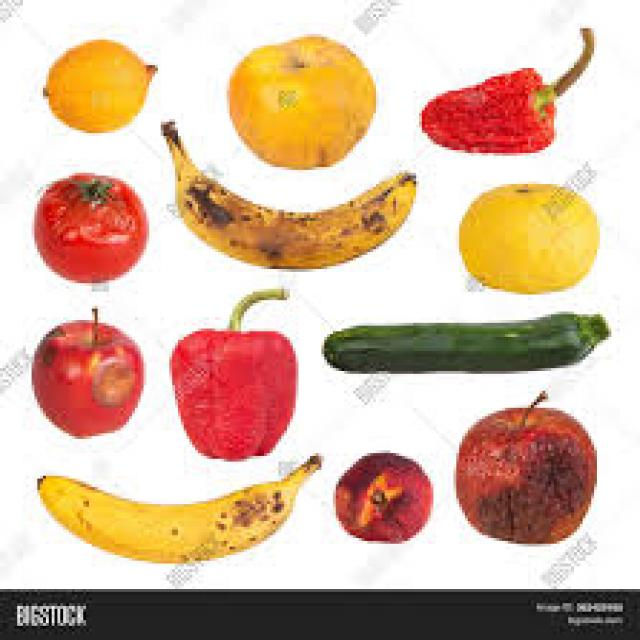organic waste: (158, 116, 413, 263), (32, 453, 318, 561), (167, 286, 296, 462), (451, 385, 594, 541), (416, 26, 591, 150), (224, 31, 373, 167), (322, 308, 608, 374), (28, 303, 140, 439), (456, 181, 597, 289), (32, 170, 146, 280), (37, 37, 158, 127), (333, 450, 430, 541)
